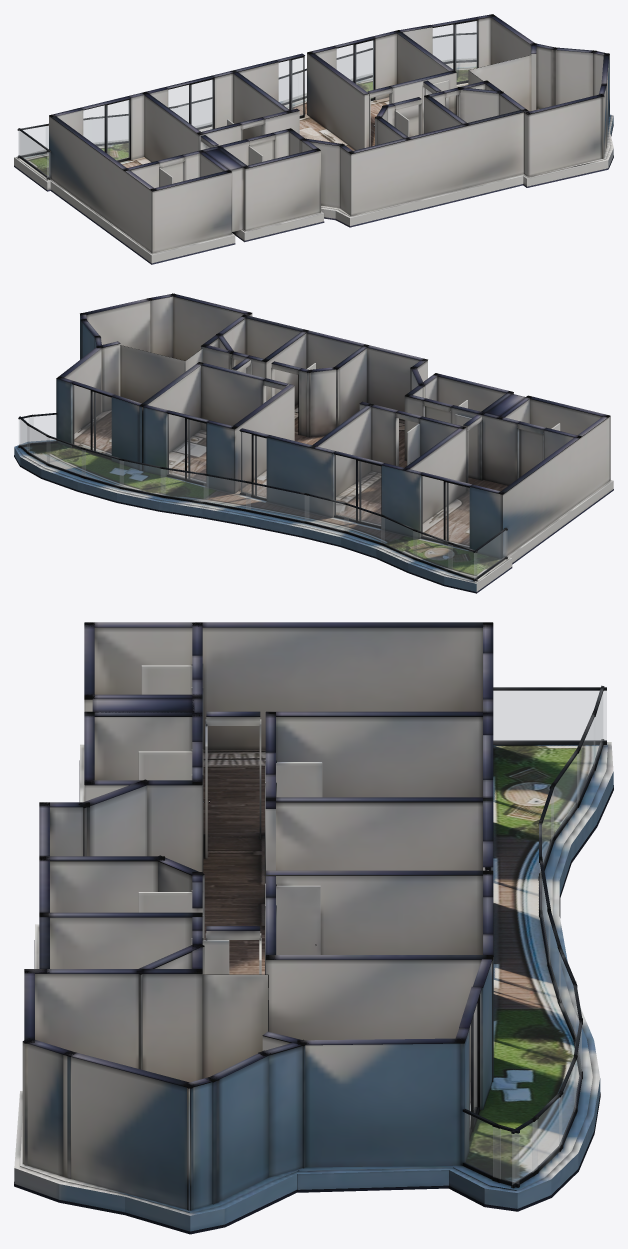
The picture shows the model from 3 angles, top to bottom: view 1: azimuth 30°, elevation 25°; view 2: azimuth 150°, elevation 25°; view 3: azimuth 270°, elevation 25°; orthographic projection. The views are drawn at different scales.
Visible parts, largest first — view 1: plan, glass0_m, glass4_m, glass1_m, glass3_m, glass2_m, railg16_m, railg13_m, railg15_m, railg10_m, railg7_m, railg3_m (+2 smaller); view 2: plan, glass0_m, glass1_m, glass4_m, glass3_m, railg6_m, glass2_m, railg8_m, railg9_m, railg7_m, railg10_m, railg5_m (+8 smaller); view 3: plan, railg16_m, railg0_m, railg3_m, railg13_m, railg1_m, railg2_m, railg14_m, railg4_m.
Part boxes in pixels (x1,y1,x2,y2): plan: [14, 14, 613, 264]; glass0_m: [83, 100, 129, 160]; glass4_m: [433, 21, 476, 81]; glass1_m: [168, 80, 212, 131]; glass3_m: [337, 40, 373, 98]; glass2_m: [279, 58, 302, 115]; railg16_m: [19, 131, 50, 177]; railg13_m: [92, 116, 127, 143]; railg15_m: [18, 126, 48, 155]; railg10_m: [178, 100, 211, 127]; railg7_m: [337, 51, 369, 80]; railg3_m: [457, 35, 475, 60]; plan: [14, 293, 613, 593]; glass0_m: [421, 476, 469, 547]; glass1_m: [334, 455, 380, 525]; glass4_m: [73, 385, 111, 454]; glass3_m: [167, 414, 205, 482]; railg6_m: [246, 483, 308, 521]; glass2_m: [241, 432, 266, 497]; railg8_m: [161, 469, 208, 501]; railg9_m: [204, 476, 250, 509]; railg7_m: [120, 460, 165, 495]; railg10_m: [305, 495, 348, 531]; railg5_m: [82, 449, 123, 487]; plan: [14, 622, 613, 1234]; railg16_m: [493, 691, 606, 740]; railg0_m: [464, 1113, 500, 1178]; railg3_m: [532, 1096, 561, 1172]; railg13_m: [551, 753, 579, 839]; railg1_m: [493, 1127, 518, 1183]; railg2_m: [512, 1120, 537, 1184]; railg14_m: [577, 718, 594, 803]; railg4_m: [559, 1062, 575, 1147].
Size of the model in its own units: 18.75 by 2.62 by 10.01.
2 materials, 1 textured.
